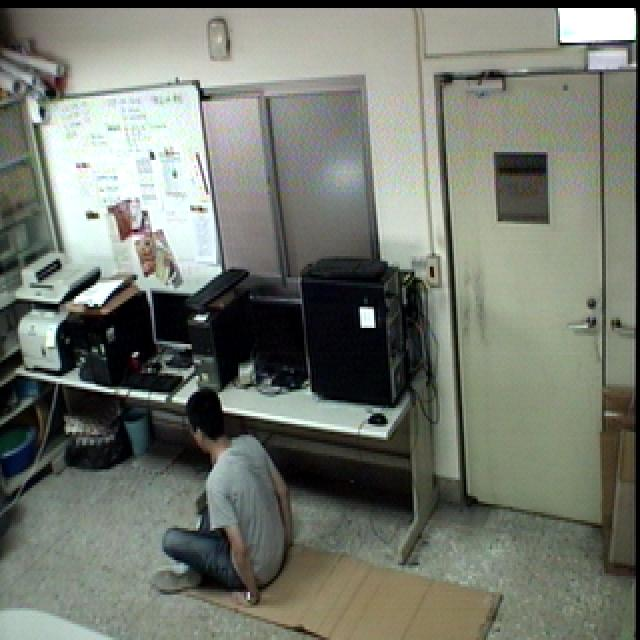sit: (143, 386, 304, 608)
